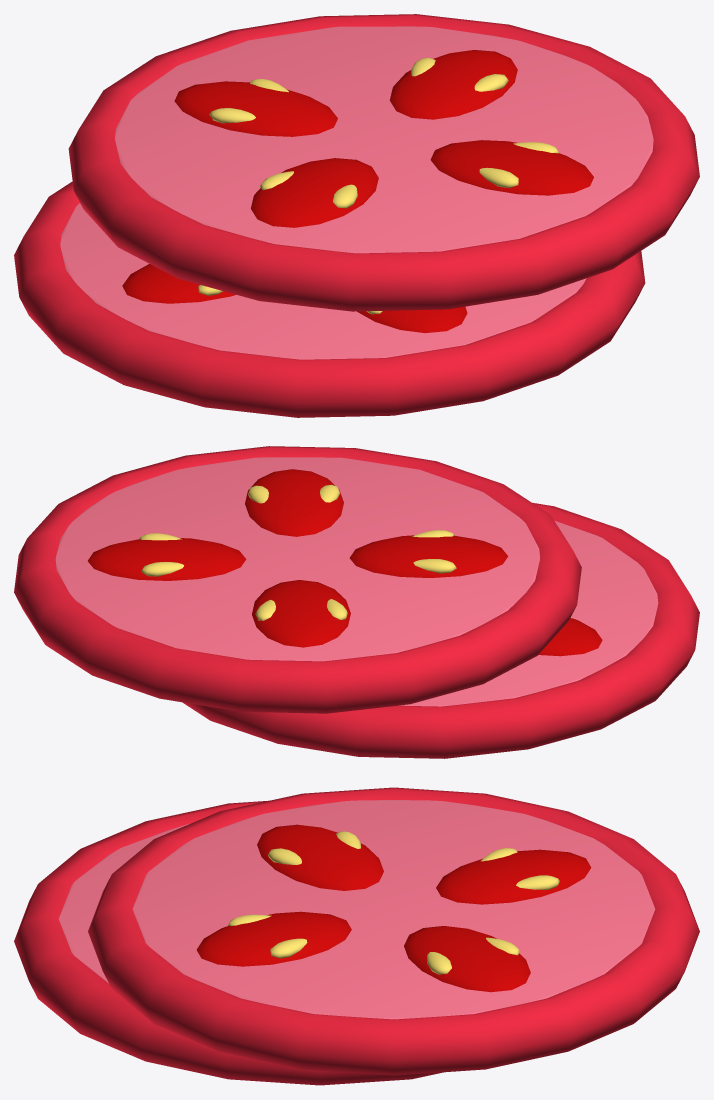
Rendered from food_ingredient_tomato_slice.gltf.
3 views of the same model, one above another, from view 1: azimuth 30°, elevation 25°; view 2: azimuth 150°, elevation 25°; view 3: azimuth 270°, elevation 25° (orthographic). The views are drawn at different scales.
Parts seen in each view (by area): view 1: TomSkinRing_0; view 2: TomSkinRing_0; view 3: TomSkinRing_0.
Part boxes in pixels (x1=…): TomSkinRing_0: x1=14, y1=14, x2=699, y2=417; TomSkinRing_0: x1=14, y1=446, x2=699, y2=758; TomSkinRing_0: x1=14, y1=787, x2=699, y2=1085.
Bounding box in the file's own units: 0.484 × 0.0858 × 0.464.
